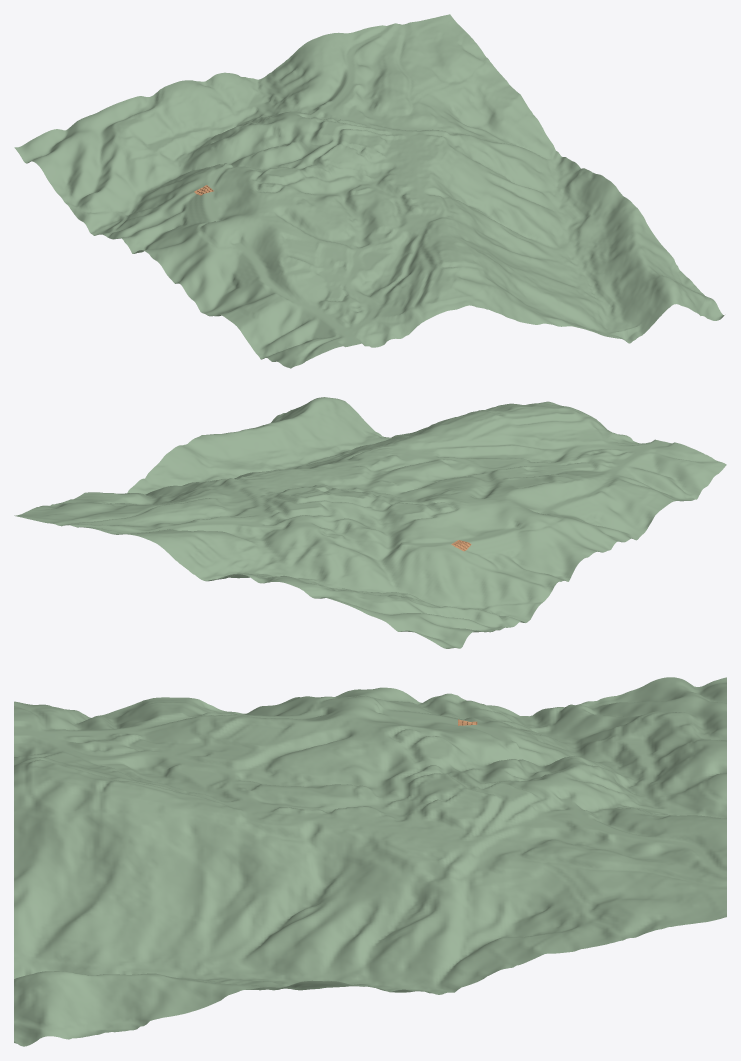
The model's file is moat-study.glb.
3 renders of one model, top to bottom at view 1: azimuth 30°, elevation 25°; view 2: azimuth 150°, elevation 25°; view 3: azimuth 270°, elevation 25°, orthographic. The views are drawn at different scales.
Parts seen in each view (by area): view 1: C_castle_with_study_cutout; view 2: C_castle_with_study_cutout; view 3: C_castle_with_study_cutout.
Boxes of the visible parts, left/top/right/bottom form: C_castle_with_study_cutout: left=14, top=14, right=724, bottom=368; C_castle_with_study_cutout: left=14, top=397, right=726, bottom=648; C_castle_with_study_cutout: left=14, top=677, right=726, bottom=1046.
Bounding box in the file's own units: 1000 × 247 × 1100.
